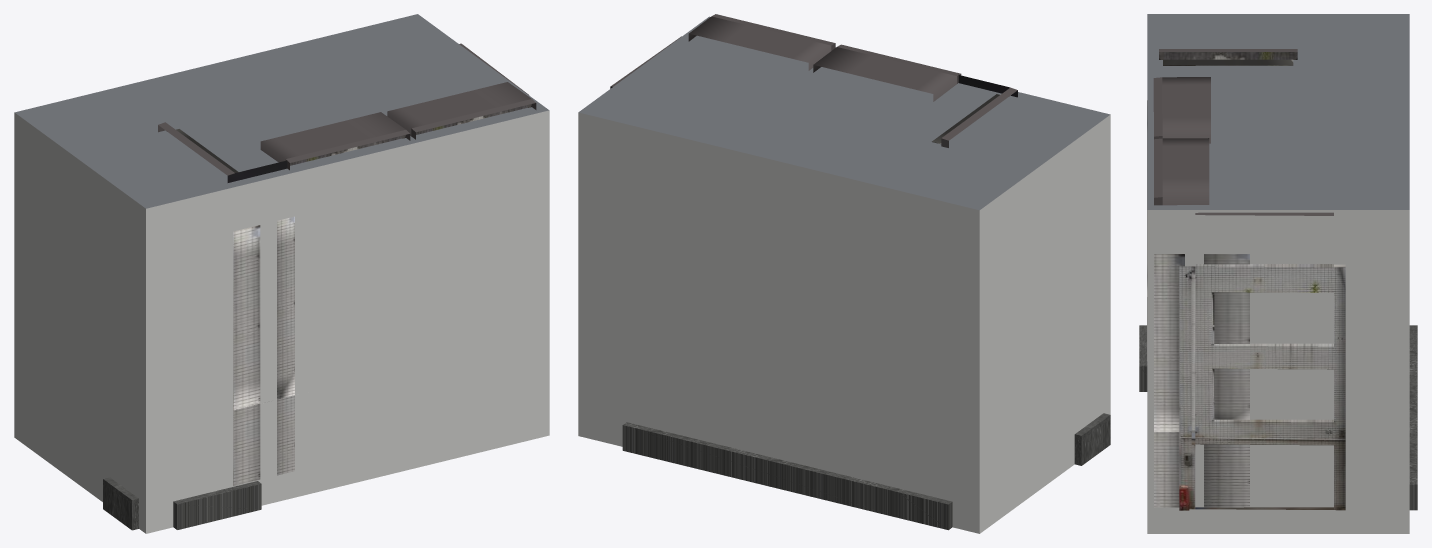
Rendered from bldg_09_white_tile_apt.glb.
3 views of the same model, side by side, from view 1: azimuth 30°, elevation 25°; view 2: azimuth 150°, elevation 25°; view 3: azimuth 270°, elevation 25° (orthographic).
Parts seen in each view (by area): view 1: WhiteTileBuilding; view 2: WhiteTileBuilding; view 3: WhiteTileBuilding.
Part boxes in pixels (x1,y1,x2,y2): WhiteTileBuilding: (14,14,549,533); WhiteTileBuilding: (578,14,1110,533); WhiteTileBuilding: (1139,14,1417,533).
Bounding box in the file's own units: 13.26 × 10.13 × 7.69.
4 materials, 2 textured.
